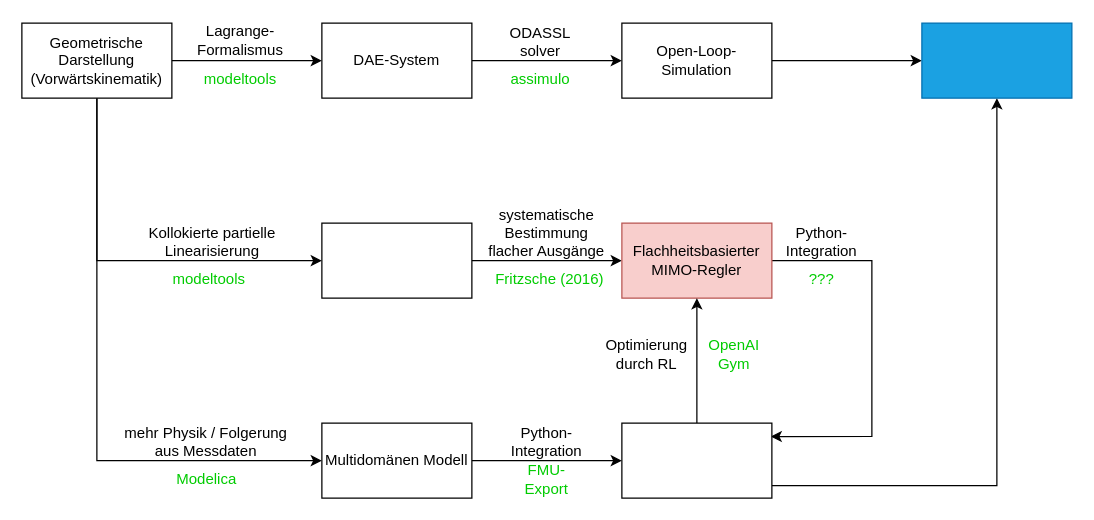
This 1094x520 diagram has some shape labels left out. The centre of each missing label's shape, as x and y in pixels:
"Closed-Loop-Simulation" belongs at pixel 696 460.
"Validation" belongs at pixel 996 60.
"Zustandsraum-Darstellung" belongs at pixel 396 260.
